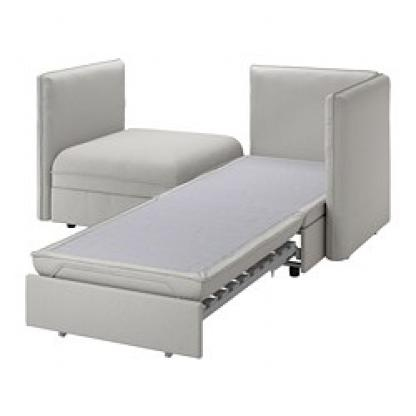Sofa: (23, 28, 391, 363)
